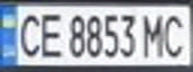3: (118, 10, 142, 58)
5: (103, 10, 124, 58)
8: (63, 10, 87, 58), (84, 11, 106, 58)
C: (12, 9, 45, 60), (160, 9, 193, 58)
E: (36, 9, 66, 60)
M: (139, 9, 172, 58)
